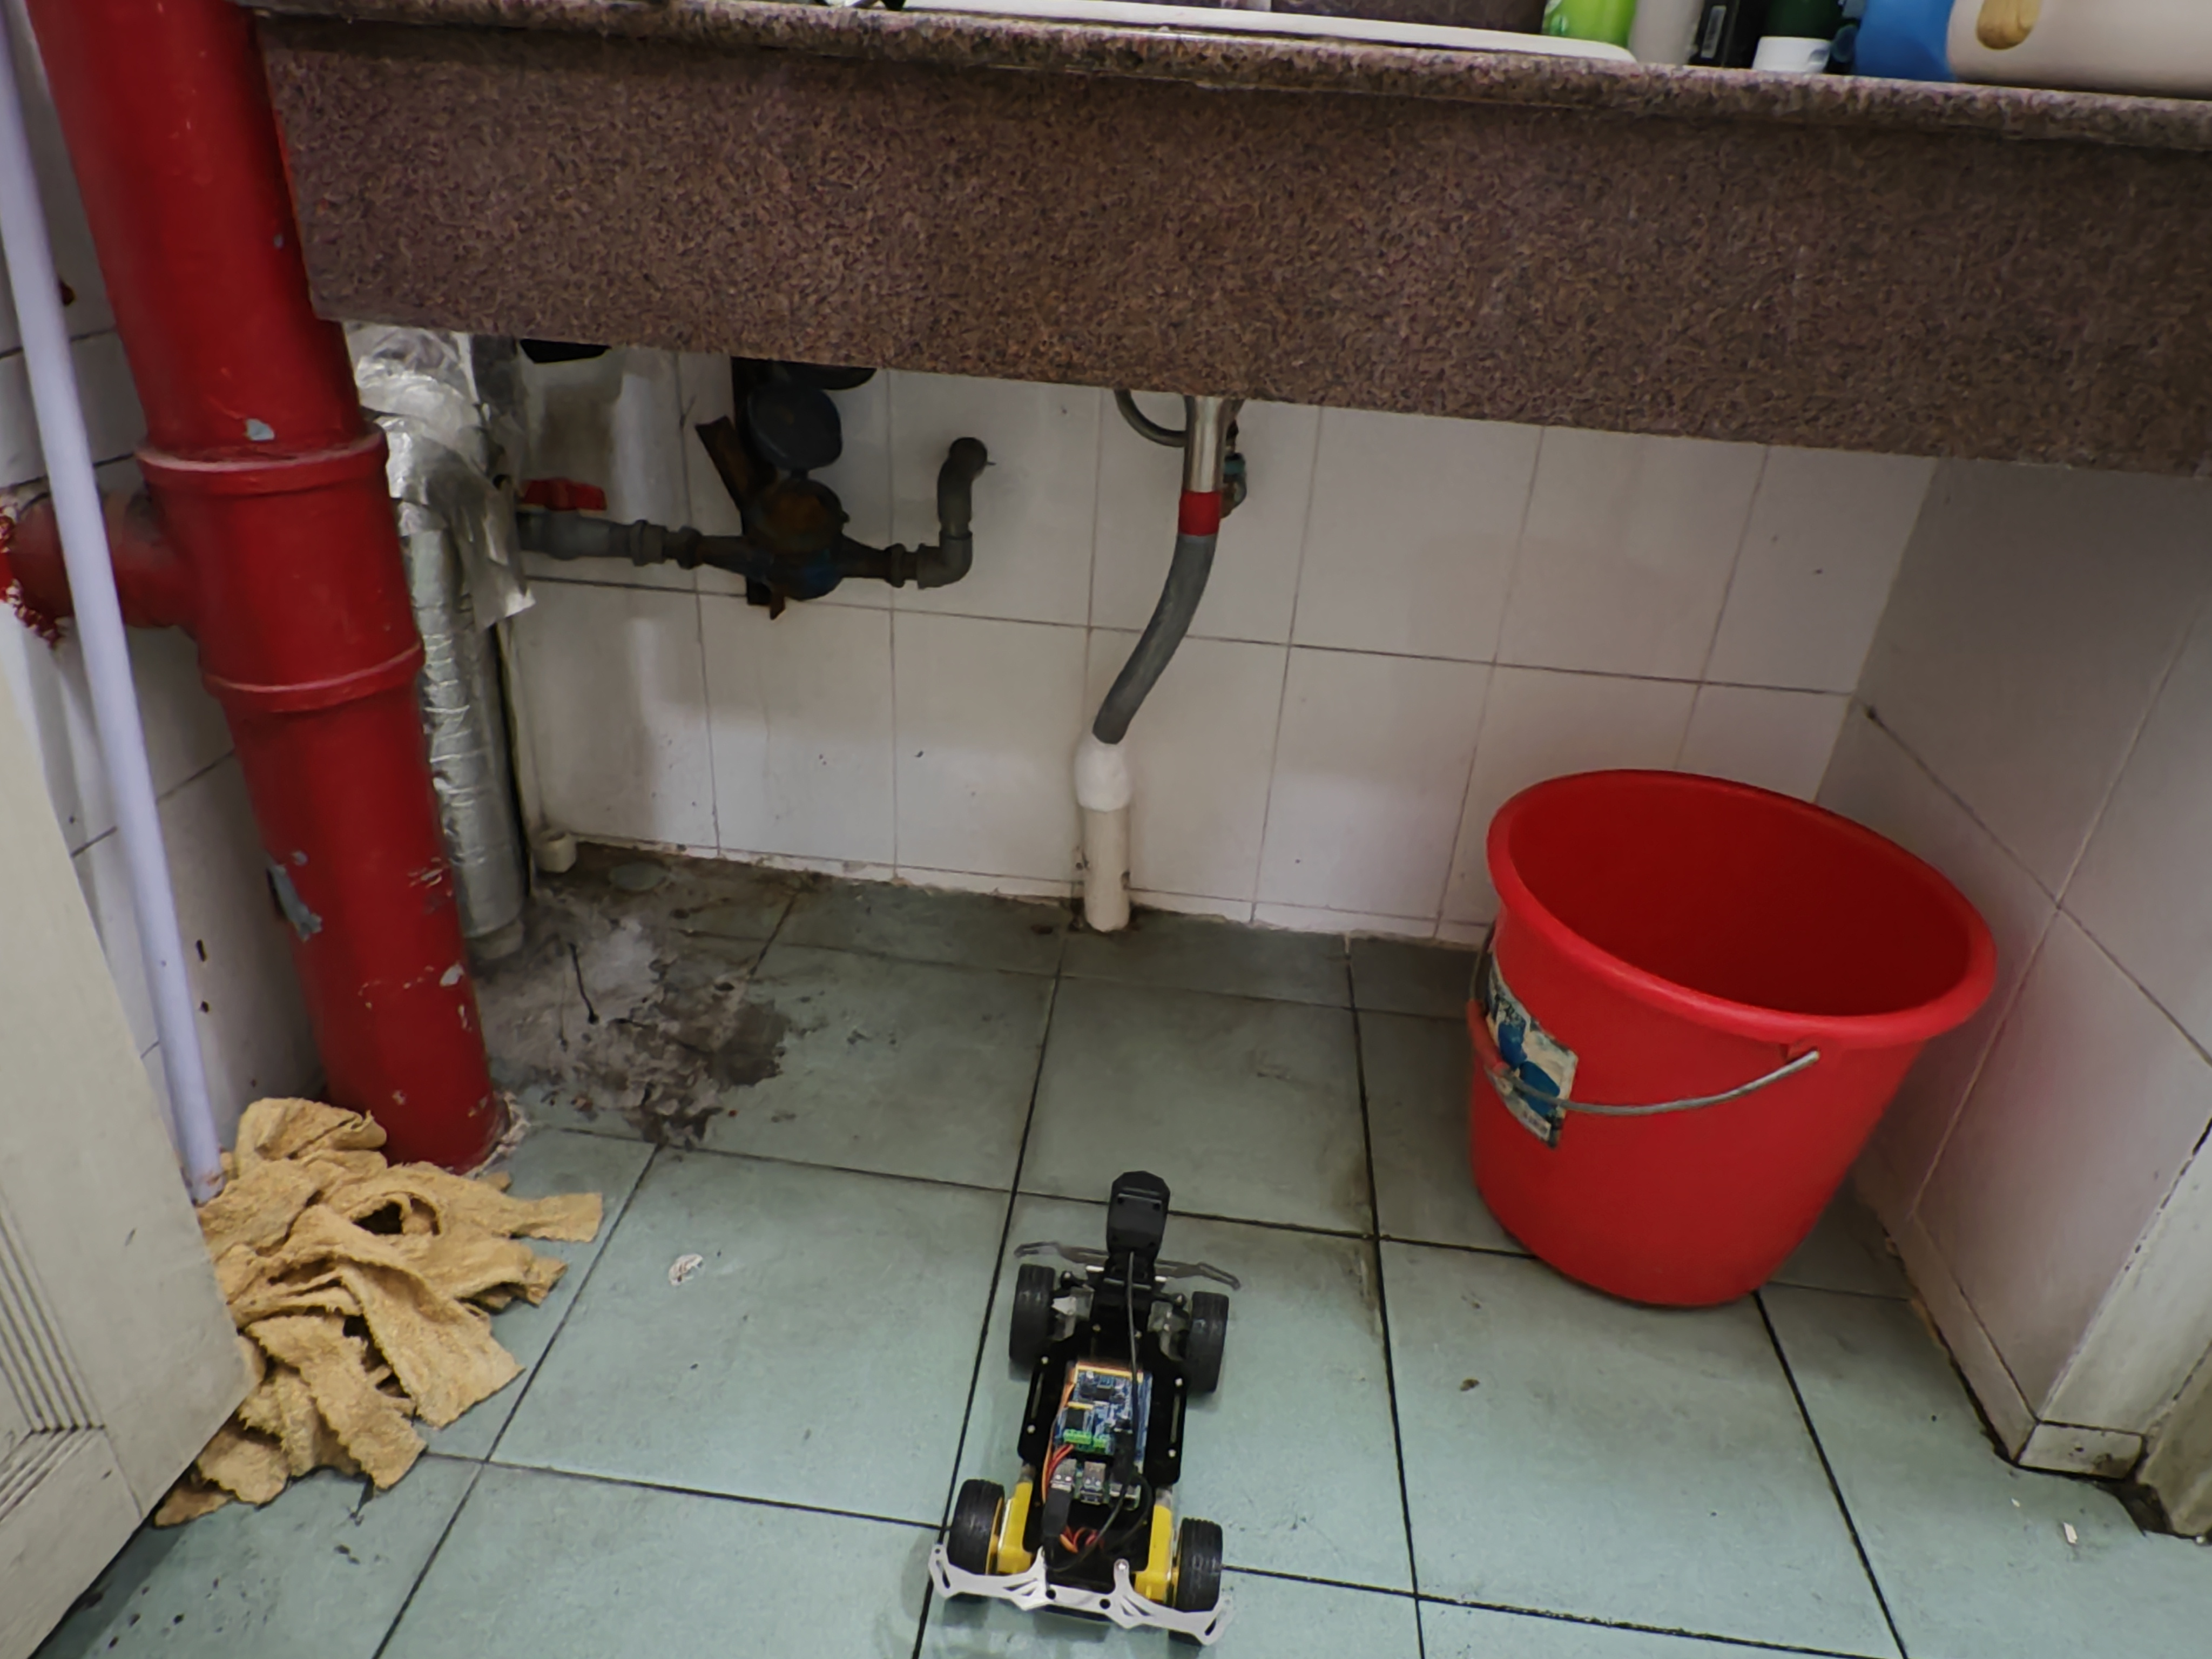car: (911, 1152, 1266, 1652)
